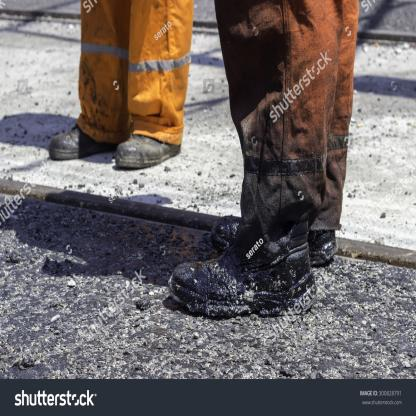bota: (166, 210, 318, 323), (47, 124, 114, 164), (116, 133, 182, 170)
